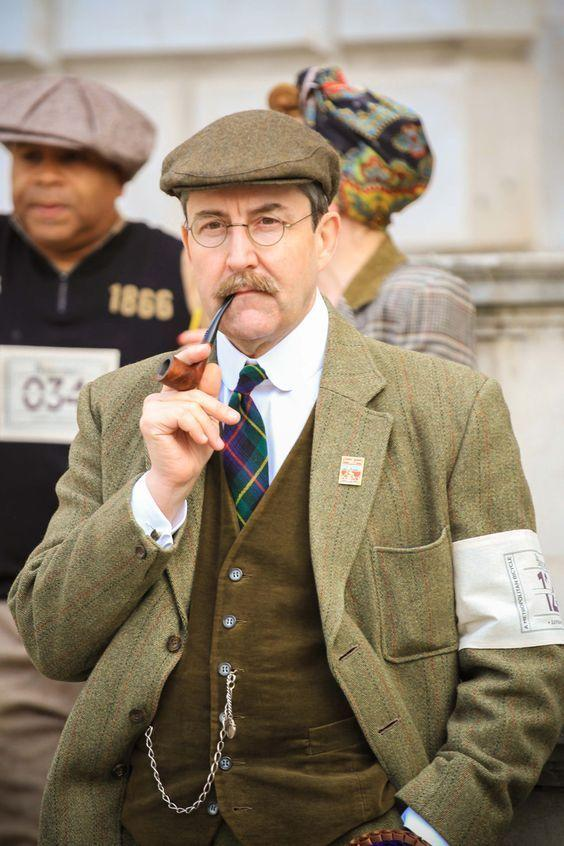trubka: (157, 294, 236, 392)
